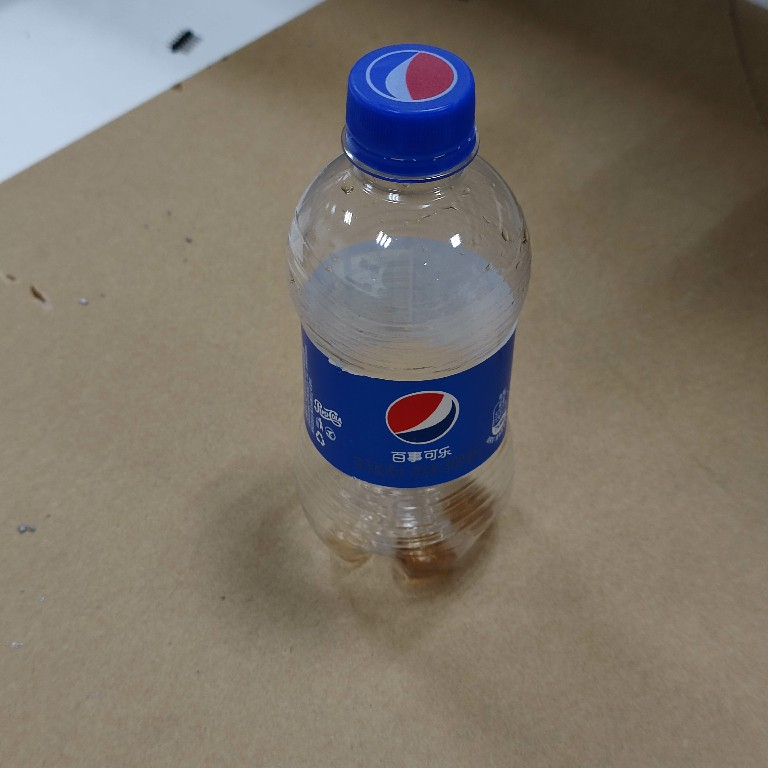bottle: (282, 41, 538, 589)
